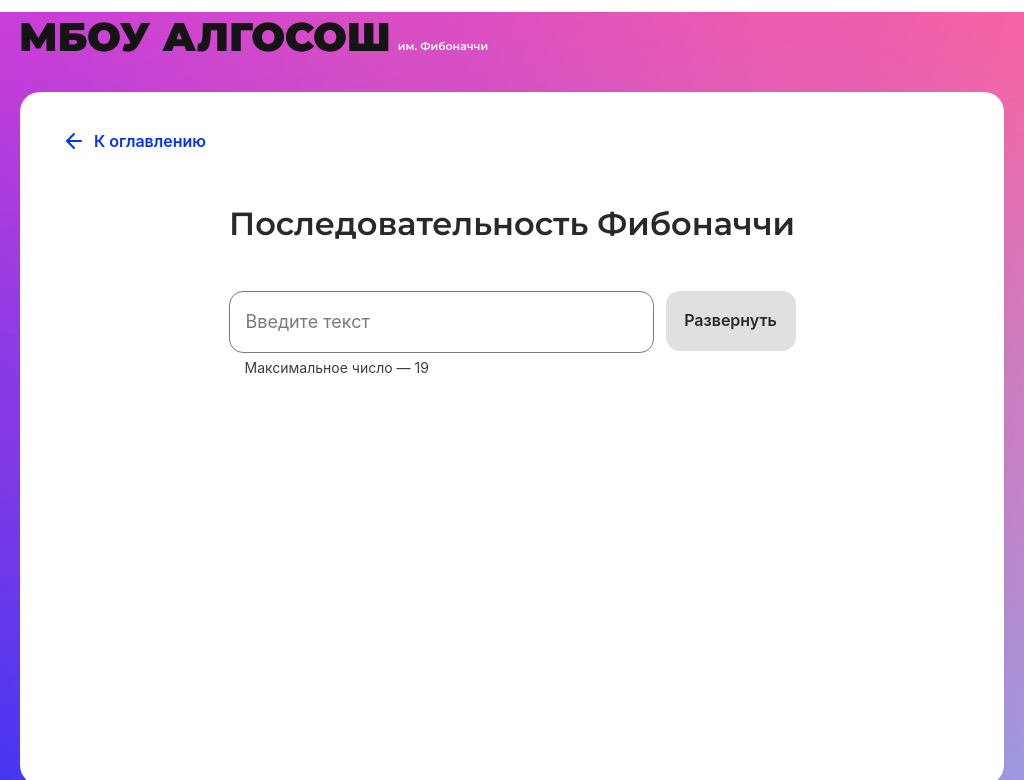
it: Fibonacci › correct generating numbers
The width and height of the screenshot is (1024, 780).
Type "6" into the number field with placeholder "Введите текст" at (442, 322), box [229,291,654,353]
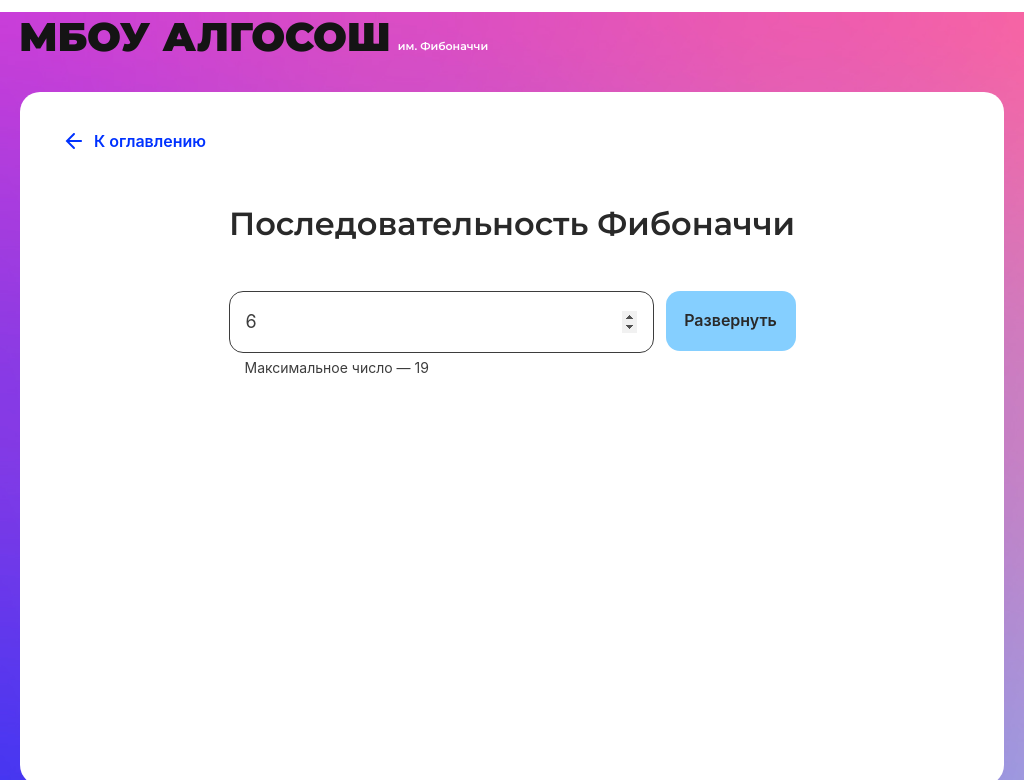
Click the submit button at (731, 321), box [666,291,796,351]
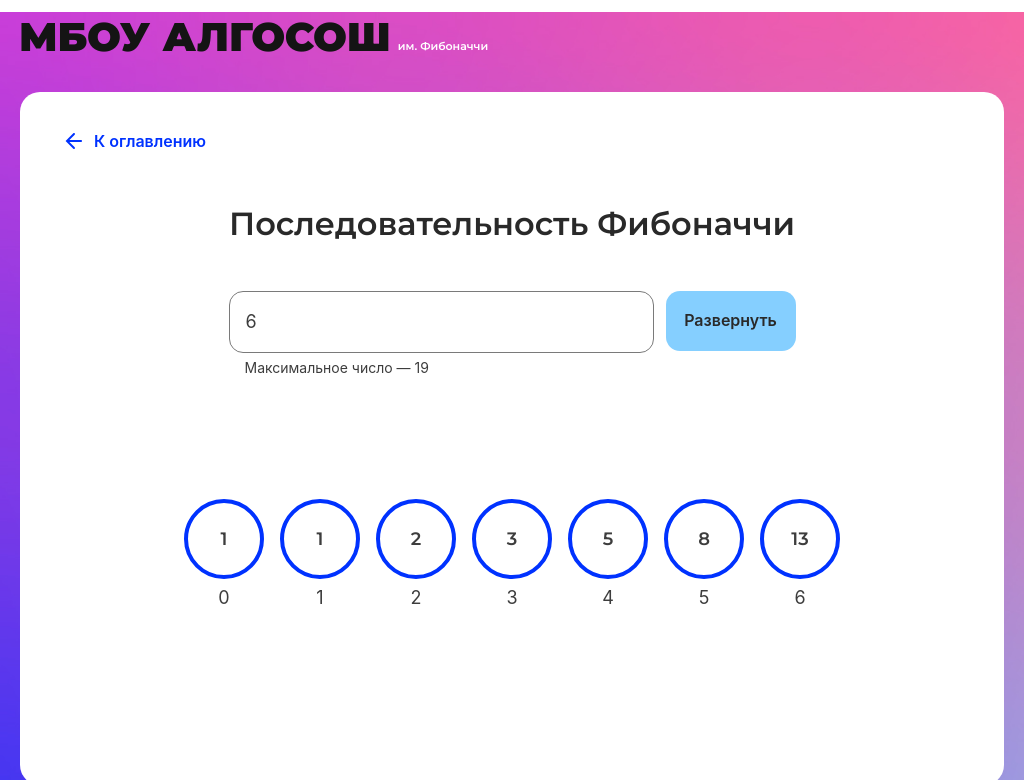
Check: the 1st text "1" is shown, box [221,528,228,550]
Check: the 1st text "2" is shown, box [411,528,421,550]
Check: the 1st text "3" is shown, box [507,528,517,550]
